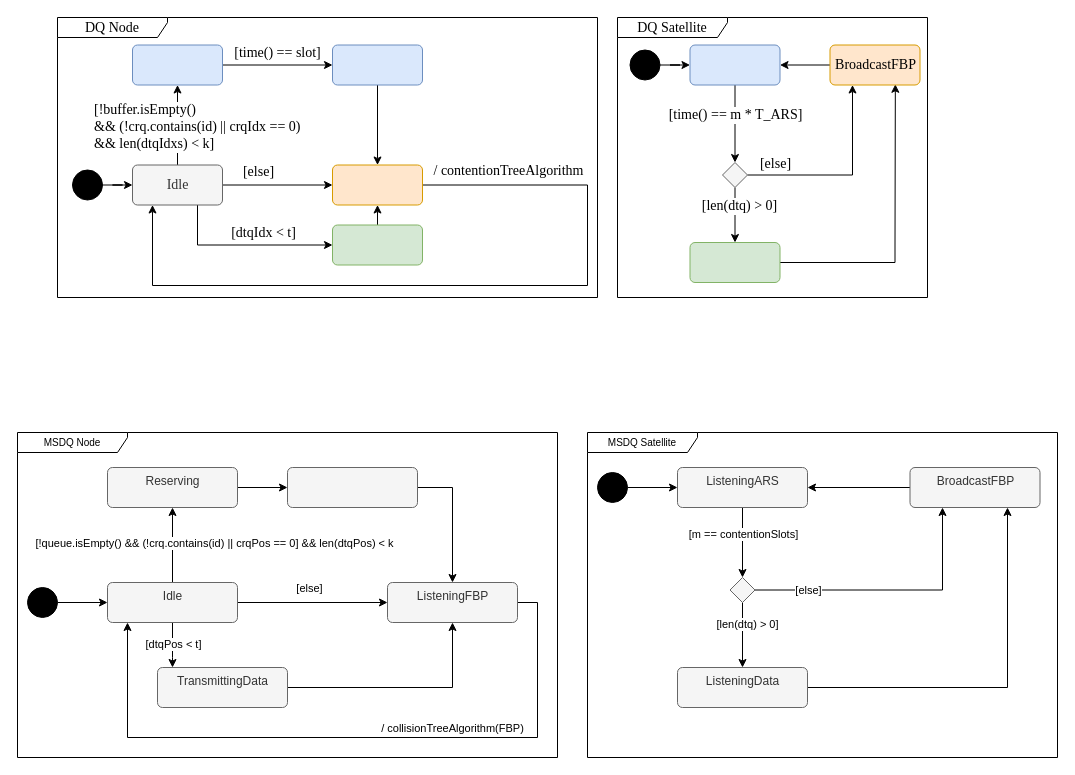
Some shapes in this 1075 by 775 pixel diagram are drawn without their labels. Here are the shapes that lost their labels. From the top down, the centre of each, then its label:
At (x=177, y=64): "Reserve".
At (x=377, y=64): "TransmitARS".
At (x=734, y=64): "ListenARS".
At (x=377, y=184): "ListenFBP".
At (x=377, y=244): "TransmitData".
At (x=734, y=262): "ListenData".
At (x=352, y=487): "TransmittingARS".
